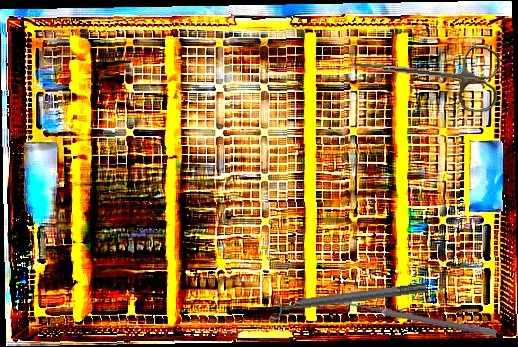Fixation Ring: (266, 275, 429, 322)
Iris Scissors: (345, 34, 502, 114)
Surgical Spoon: (332, 297, 498, 337)
